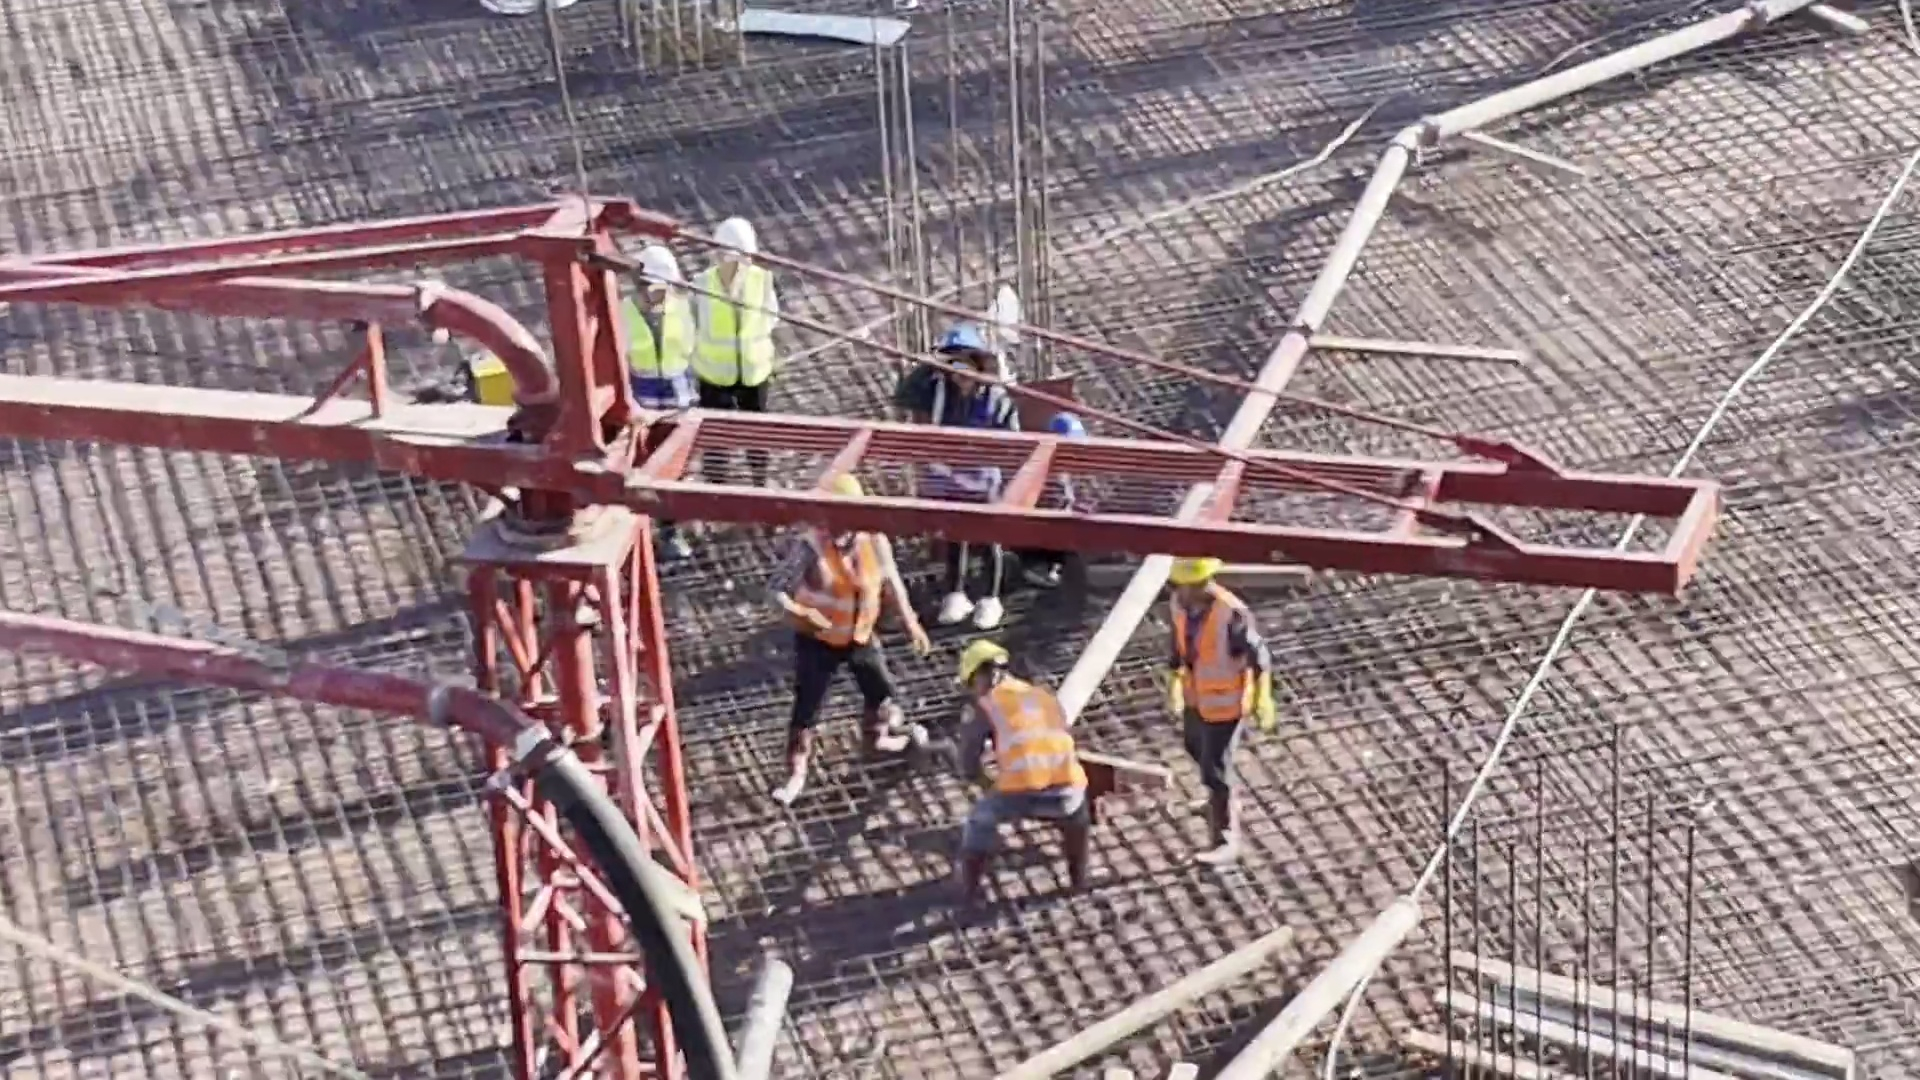helmet: (1165, 556, 1216, 588), (630, 254, 670, 296), (711, 223, 755, 257), (954, 325, 992, 354), (819, 473, 862, 499), (1046, 408, 1088, 431), (966, 649, 1009, 668)
person: (752, 467, 934, 802), (930, 642, 1112, 920), (877, 332, 1029, 639), (1149, 541, 1282, 876), (685, 222, 781, 539), (593, 238, 703, 431), (1018, 427, 1107, 617)
vest: (992, 687, 1077, 817), (1168, 604, 1252, 728), (919, 381, 1008, 487), (701, 284, 778, 395), (813, 548, 892, 653), (635, 311, 708, 399)
